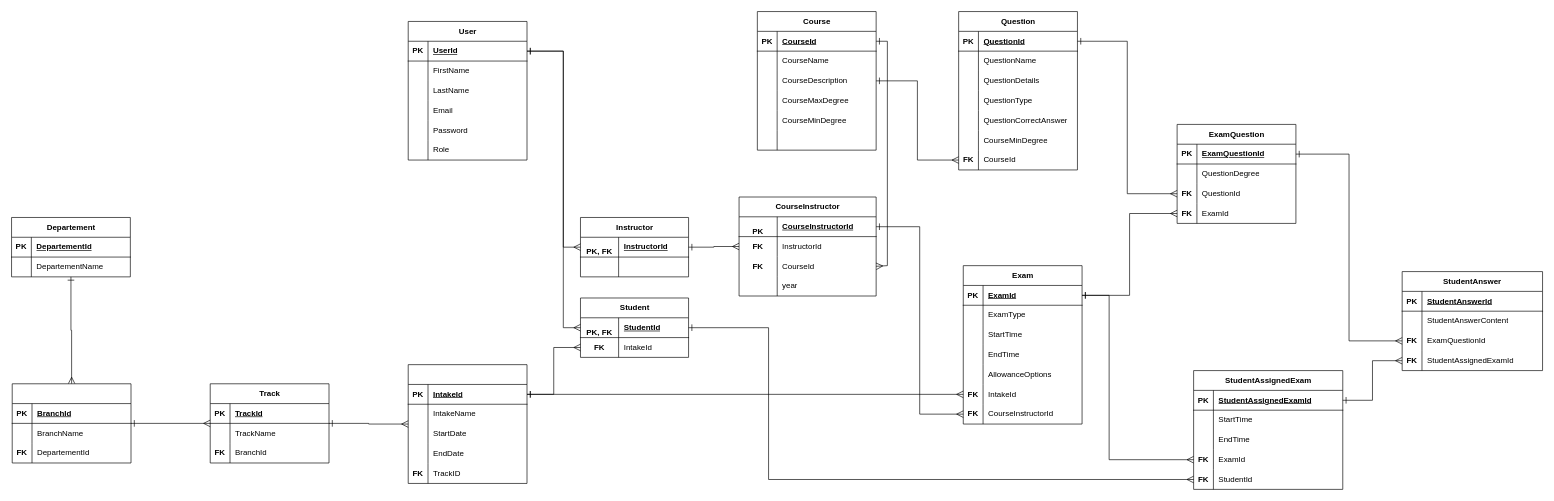
Some shapes in this 1554 by 501 pixel diagram are drawn without their labels. Here are the shapes that lost their labels. From the top down, the box of each, then its label:
(12, 383, 131, 463): Bracnh
(408, 364, 527, 483): IntackeId
